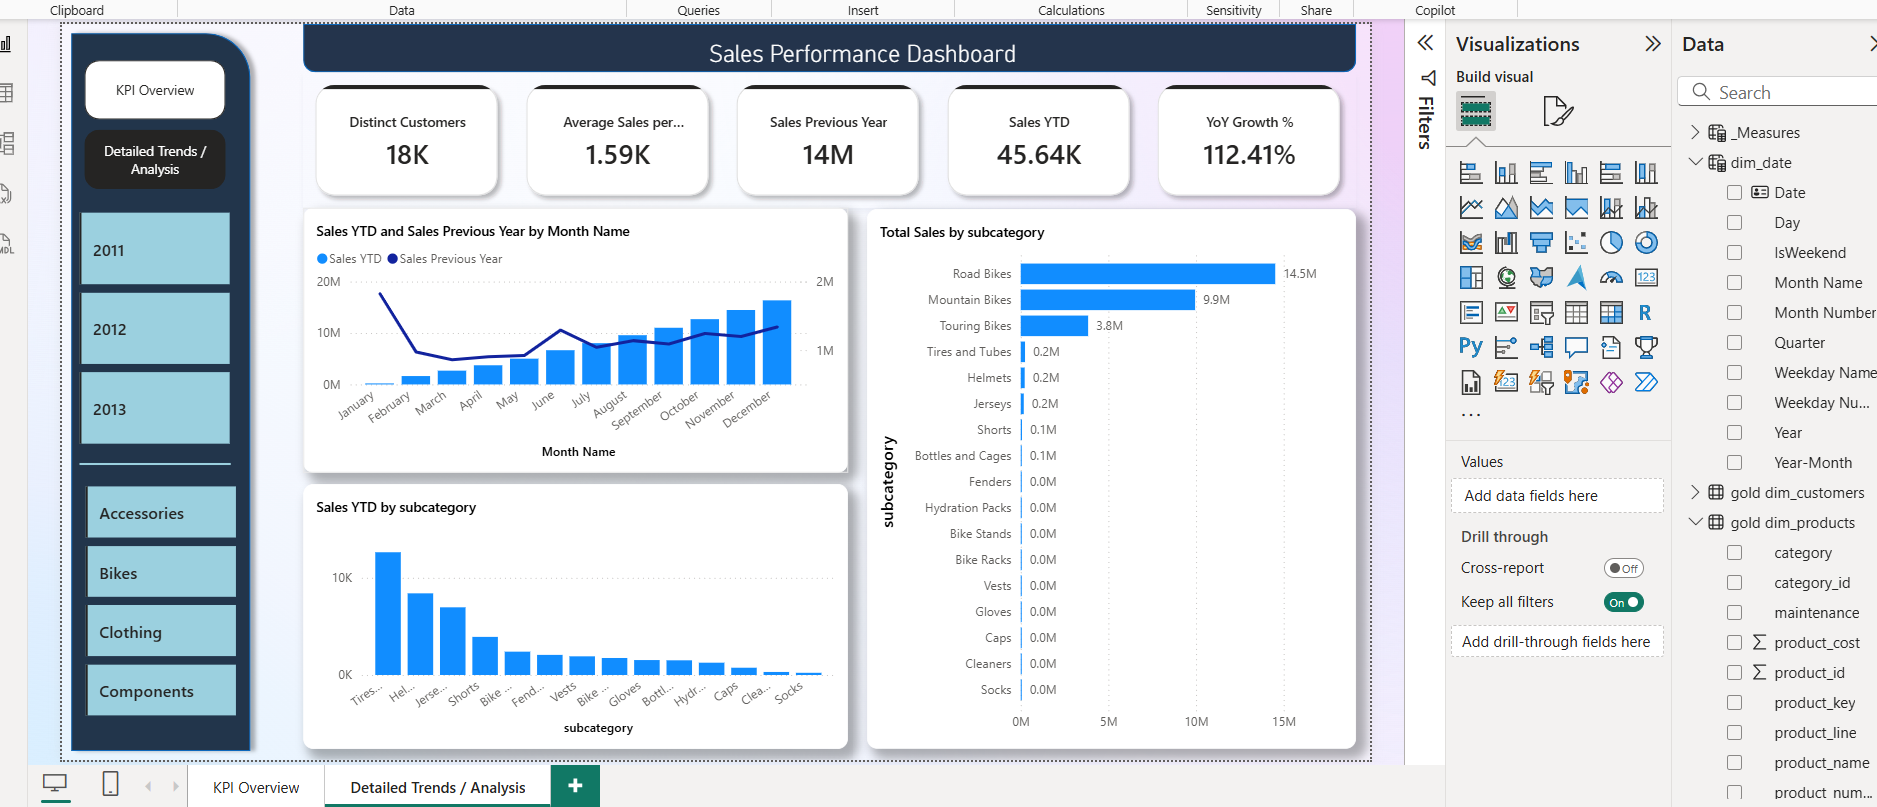

The dashboard page shown, as its layout file describes it:
{"tool":"powerbi","page":{"name":"Detailed Trends / Analysis","canvas":[1280,720],"ordinal":1},"visuals":[{"type":"shape","box":[0,0,193.2,720.2],"z":0},{"type":"cardVisual","fields":{"Data":["_Measures.Distinct Customers","_Measures.Average Sales per Customer","_Measures.Sales Previous Year","_Measures.Sales YTD","_Measures.YoY Growth %"]},"box":[236,47.7,1029.6,132.1],"z":1000},{"type":"shape","box":[235.7,0,1030,47.1],"z":2000},{"type":"lineStackedColumnComboChart","fields":{"Y":["_Measures.Sales YTD"],"Category":["dim_date.Month Name"],"Y2":["_Measures.Sales Previous Year"]},"box":[236,179.8,533.2,259.2],"z":3000},{"type":"clusteredBarChart","fields":{"Y":["_Measures.Total Sales"],"Category":["gold dim_products.subcategory"]},"box":[787.5,181,478.1,528.3],"z":4000},{"type":"columnChart","fields":{"Y":["_Measures.Sales YTD"],"Category":["gold dim_products.subcategory"]},"box":[236,450,533.2,259.2],"z":5000},{"type":"advancedSlicerVisual","fields":{"Values":["dim_date.Year"]},"box":[12.2,179.8,157.7,236],"z":6000},{"type":"shape","box":[17.1,410.9,148,39.1],"z":7000},{"type":"pageNavigator","box":[22,35.5,138.2,127.2],"z":8000},{"type":"textbox","box":[628.5,9.8,360.7,37.9],"z":10000},{"type":"advancedSlicerVisual","fields":{"Values":["gold dim_products.category"]},"box":[18.3,447.6,157.7,236],"z":10001}]}

Visuals, with their boxes on the page's 1280x720 design canvas (x1, y1, x2, y2). These are canvas units, not pixel positions in the 1877x807 screenshot, which may show the page scaled, cropped or inside an application window:
shape: (0, 0, 193, 720)
cardVisual - _Measures.Distinct Customers x _Measures.Average Sales per Customer: (236, 48, 1266, 180)
shape: (236, 0, 1266, 47)
lineStackedColumnComboChart - _Measures.Sales YTD x dim_date.Month Name: (236, 180, 769, 439)
clusteredBarChart - _Measures.Total Sales x gold dim_products.subcategory: (788, 181, 1266, 709)
columnChart - _Measures.Sales YTD x gold dim_products.subcategory: (236, 450, 769, 709)
advancedSlicerVisual - dim_date.Year: (12, 180, 170, 416)
shape: (17, 411, 165, 450)
pageNavigator: (22, 36, 160, 163)
textbox: (628, 10, 989, 48)
advancedSlicerVisual - gold dim_products.category: (18, 448, 176, 684)
